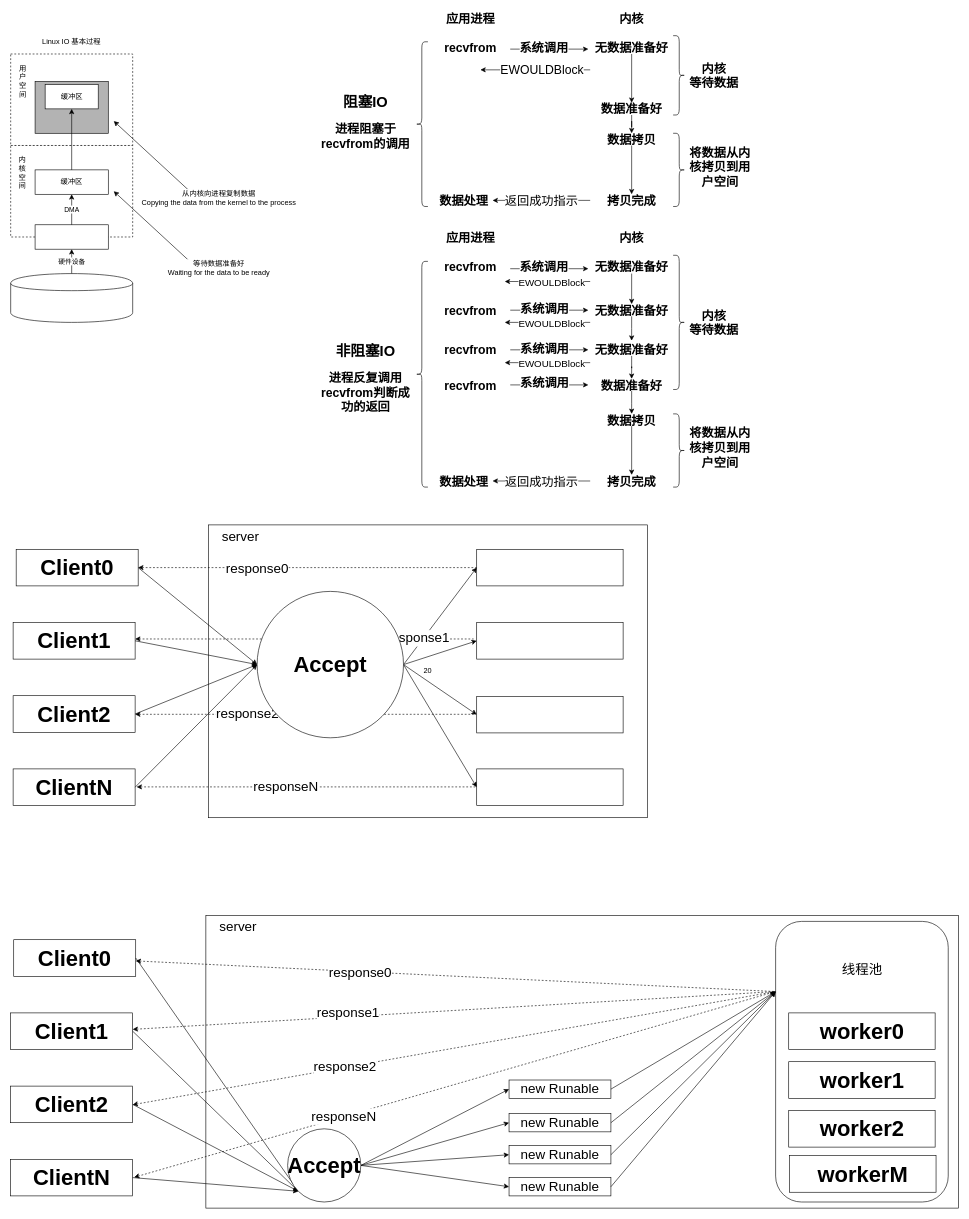
Some shapes in this 969 by 1219 pixel diagram are drawn without their labels. The box of each missing label's shape, as (x1, y1, x2, y2) in pixels:
new worker0: (476, 549, 623, 586)
new worker1: (476, 622, 623, 659)
new worker2: (476, 696, 623, 733)
new workerN: (476, 768, 623, 806)
磁盘控制器: (34, 224, 108, 249)
进程: (34, 81, 108, 133)
